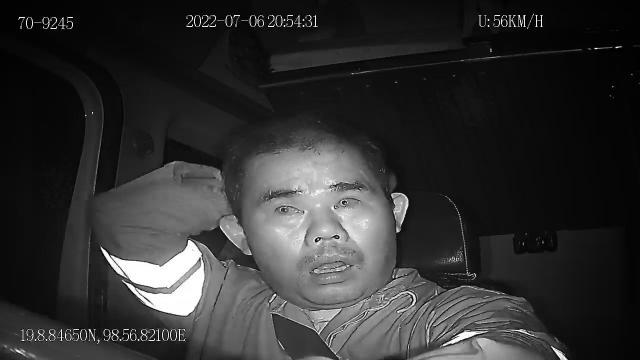SafeDriving: (328, 187, 370, 216), (268, 195, 312, 222)
Seatbelt: (270, 310, 340, 360)
